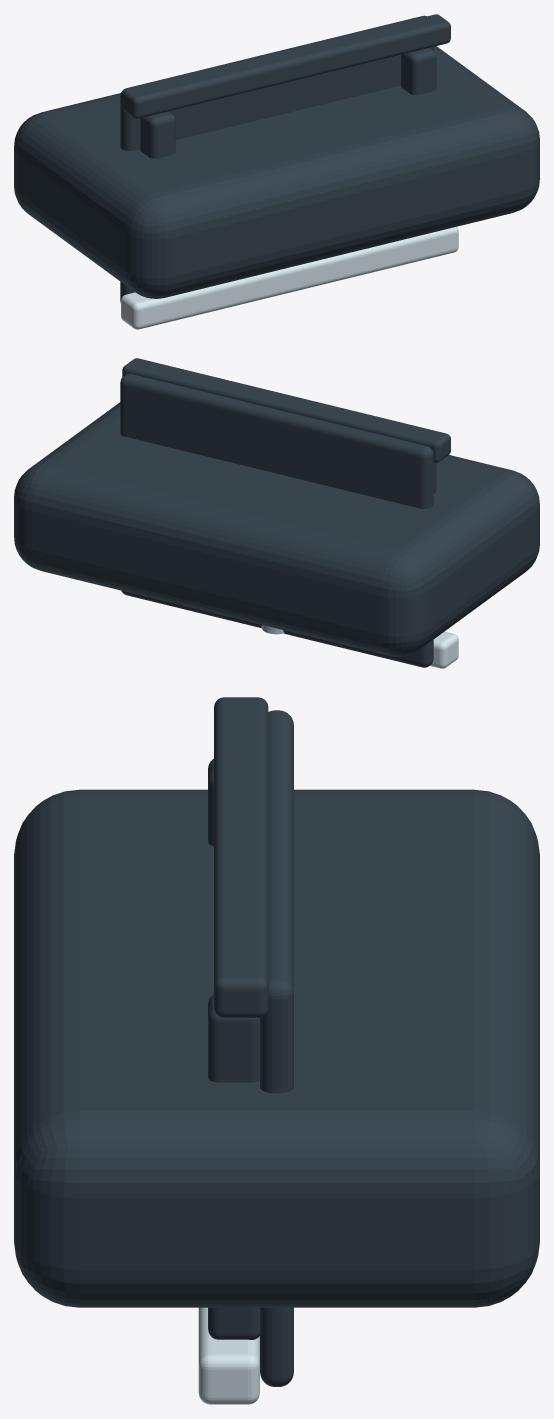
Rendered from body_23.glb.
3 views of the same model, one above another, from view 1: azimuth 30°, elevation 25°; view 2: azimuth 150°, elevation 25°; view 3: azimuth 270°, elevation 25° (orthographic). The views are drawn at different scales.
Parts seen in each view (by area): view 1: asset_mesh__body_1133__reference_body, asset_mesh__body_1136__lower_flange, asset_mesh__body_1136__upper_flange, asset_mesh__body_1136__stamped_sheet, asset_mesh__body_1136__left_reinforcement, asset_mesh__body_1136__right_reinforcement; view 2: asset_mesh__body_1133__reference_body, asset_mesh__body_1136__stamped_sheet, asset_mesh__body_1136__lower_flange, asset_mesh__body_1136__upper_flange; view 3: asset_mesh__body_1133__reference_body, asset_mesh__body_1136__lower_flange, asset_mesh__body_1136__stamped_sheet, asset_mesh__body_1136__right_reinforcement, asset_mesh__body_1136__upper_flange.
Boxes of the visible parts, left/top/right/bottom form: asset_mesh__body_1133__reference_body: left=14, top=46, right=539, bottom=298; asset_mesh__body_1136__lower_flange: left=122, top=14, right=450, bottom=118; asset_mesh__body_1136__upper_flange: left=121, top=227, right=458, bottom=329; asset_mesh__body_1136__stamped_sheet: left=120, top=15, right=433, bottom=302; asset_mesh__body_1136__left_reinforcement: left=140, top=111, right=175, bottom=158; asset_mesh__body_1136__right_reinforcement: left=401, top=48, right=436, bottom=94; asset_mesh__body_1133__reference_body: left=14, top=402, right=539, bottom=656; asset_mesh__body_1136__stamped_sheet: left=120, top=373, right=433, bottom=667; asset_mesh__body_1136__lower_flange: left=122, top=358, right=450, bottom=462; asset_mesh__body_1136__upper_flange: left=430, top=631, right=458, bottom=668; asset_mesh__body_1133__reference_body: left=14, top=789, right=539, bottom=1307; asset_mesh__body_1136__lower_flange: left=214, top=697, right=268, bottom=1017; asset_mesh__body_1136__stamped_sheet: left=260, top=710, right=293, bottom=1386; asset_mesh__body_1136__right_reinforcement: left=208, top=994, right=259, bottom=1339; asset_mesh__body_1136__upper_flange: left=198, top=1307, right=259, bottom=1404.
Size of the model in its own units: 1.47 by 0.7838 by 0.882.
